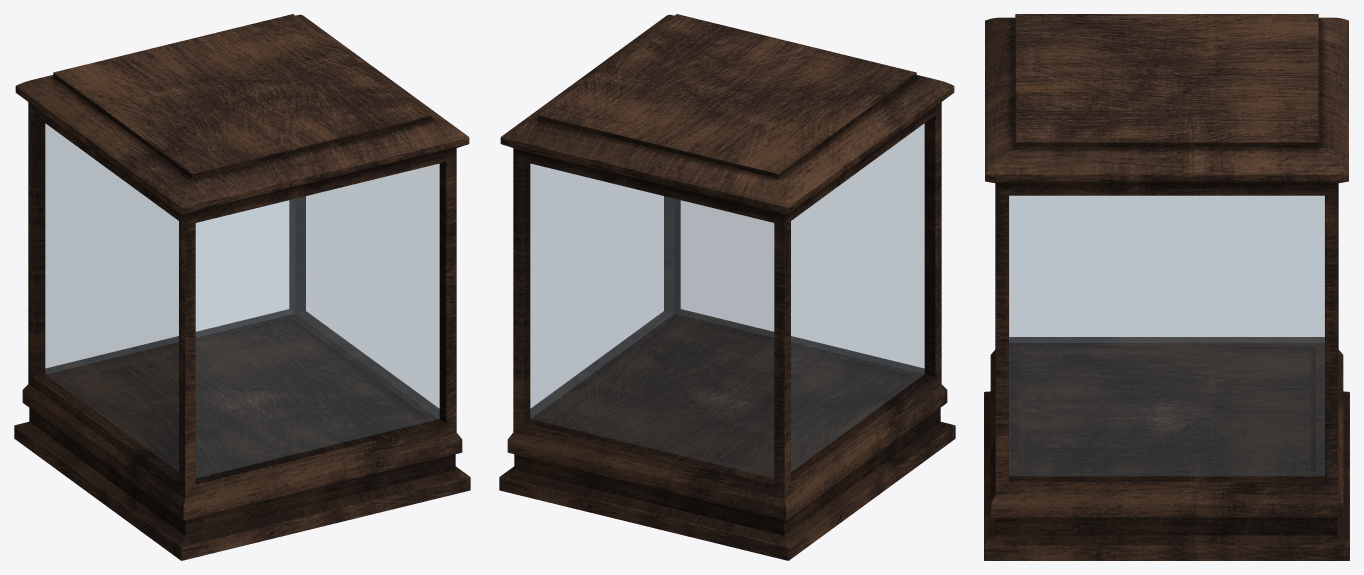
The model's file is showcase.obj.
3 views of the same model, side by side, from view 1: azimuth 30°, elevation 25°; view 2: azimuth 150°, elevation 25°; view 3: azimuth 270°, elevation 25° (orthographic). The views are drawn at different scales.
Visible parts, largest first — view 1: obj1, obj2; view 2: obj1, obj2; view 3: obj1, obj2.
Part boxes in pixels (x1,y1,x2,y2): obj1: (14,14,470,560); obj2: (45,124,439,477); obj1: (499,14,955,560); obj2: (530,124,924,477); obj1: (984,14,1349,560); obj2: (1009,195,1324,475).
Size of the model in its own units: 2.13 by 2.61 by 2.13.
Materials: 2 (1 with a texture image).
